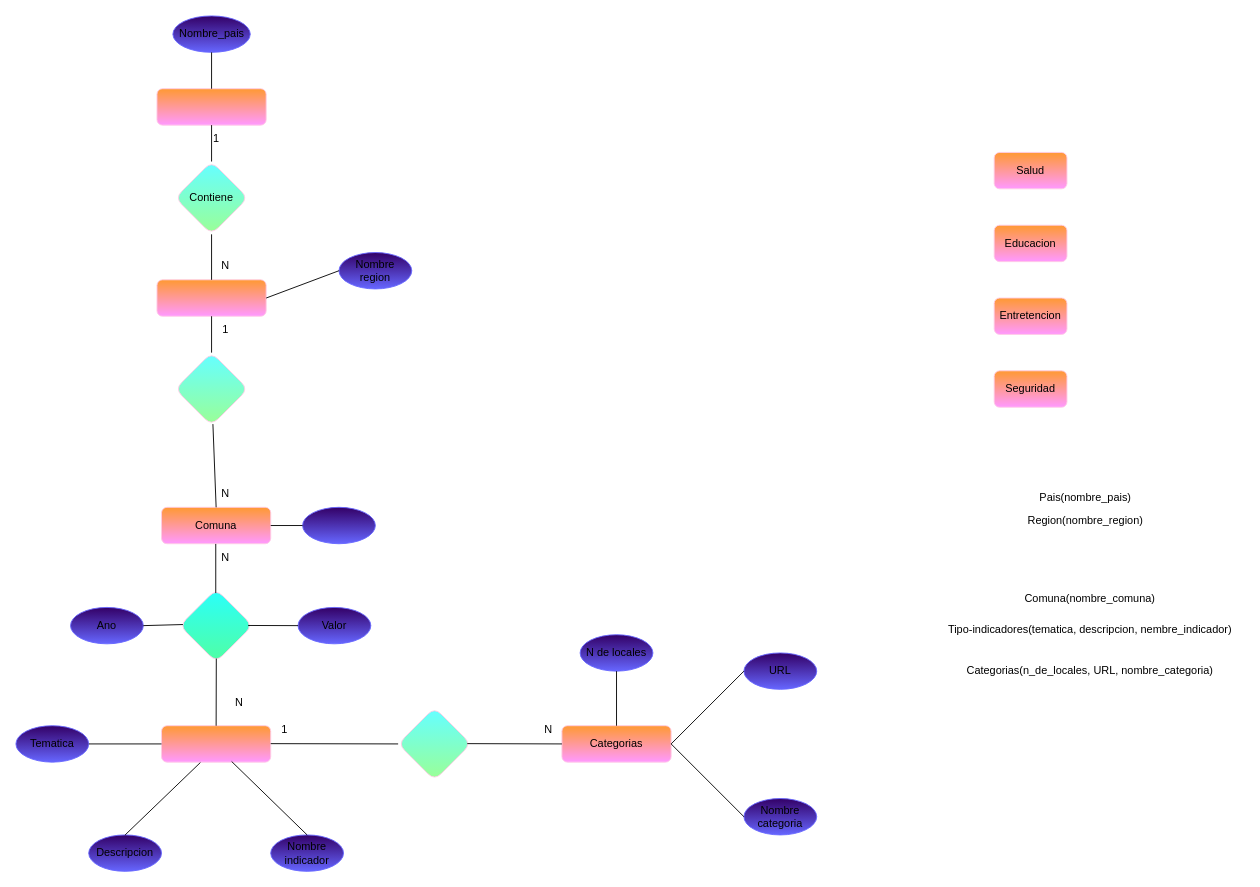
Image size: 1260x887. Some labels were removed from this diagram. Here are the shapes that lost their labels. From the top down, the box of each, then its label:
(156, 88, 266, 125): Pais
(156, 279, 266, 316): Region
(174, 352, 248, 425): Se_divide
(302, 506, 375, 544): Nombre comuna
(179, 588, 253, 662): Tener
(161, 725, 271, 762): Tipo indicadores
(397, 707, 471, 780): Se divide en
